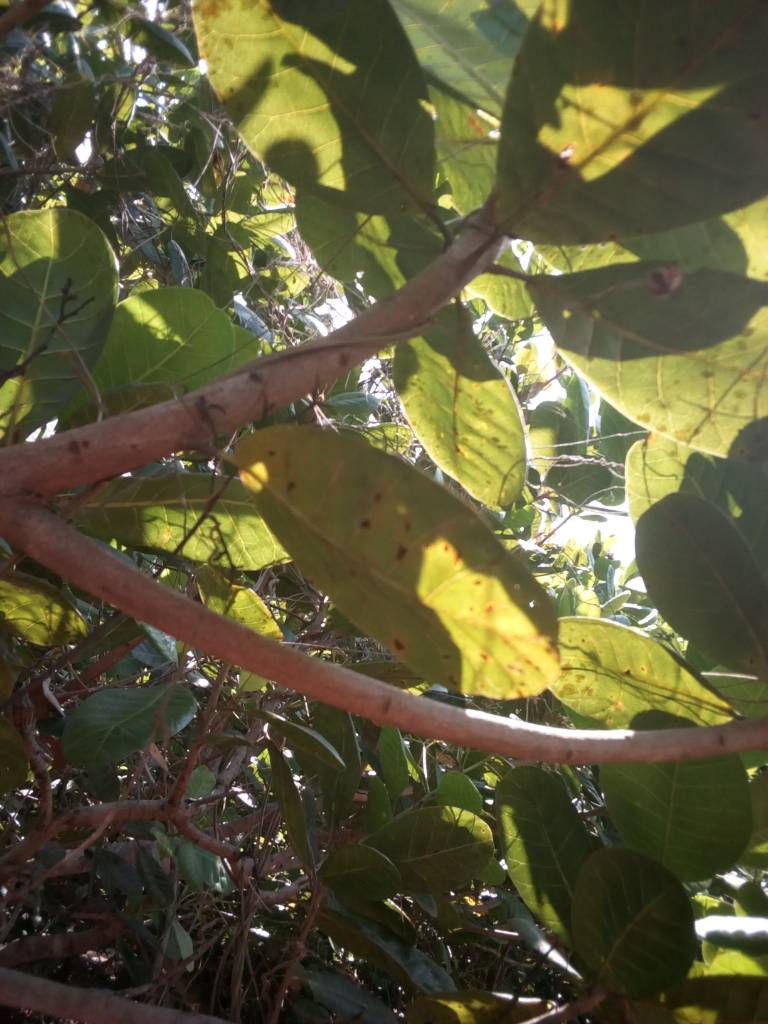Pestalotiose: (243, 421, 555, 694), (565, 275, 768, 416)
